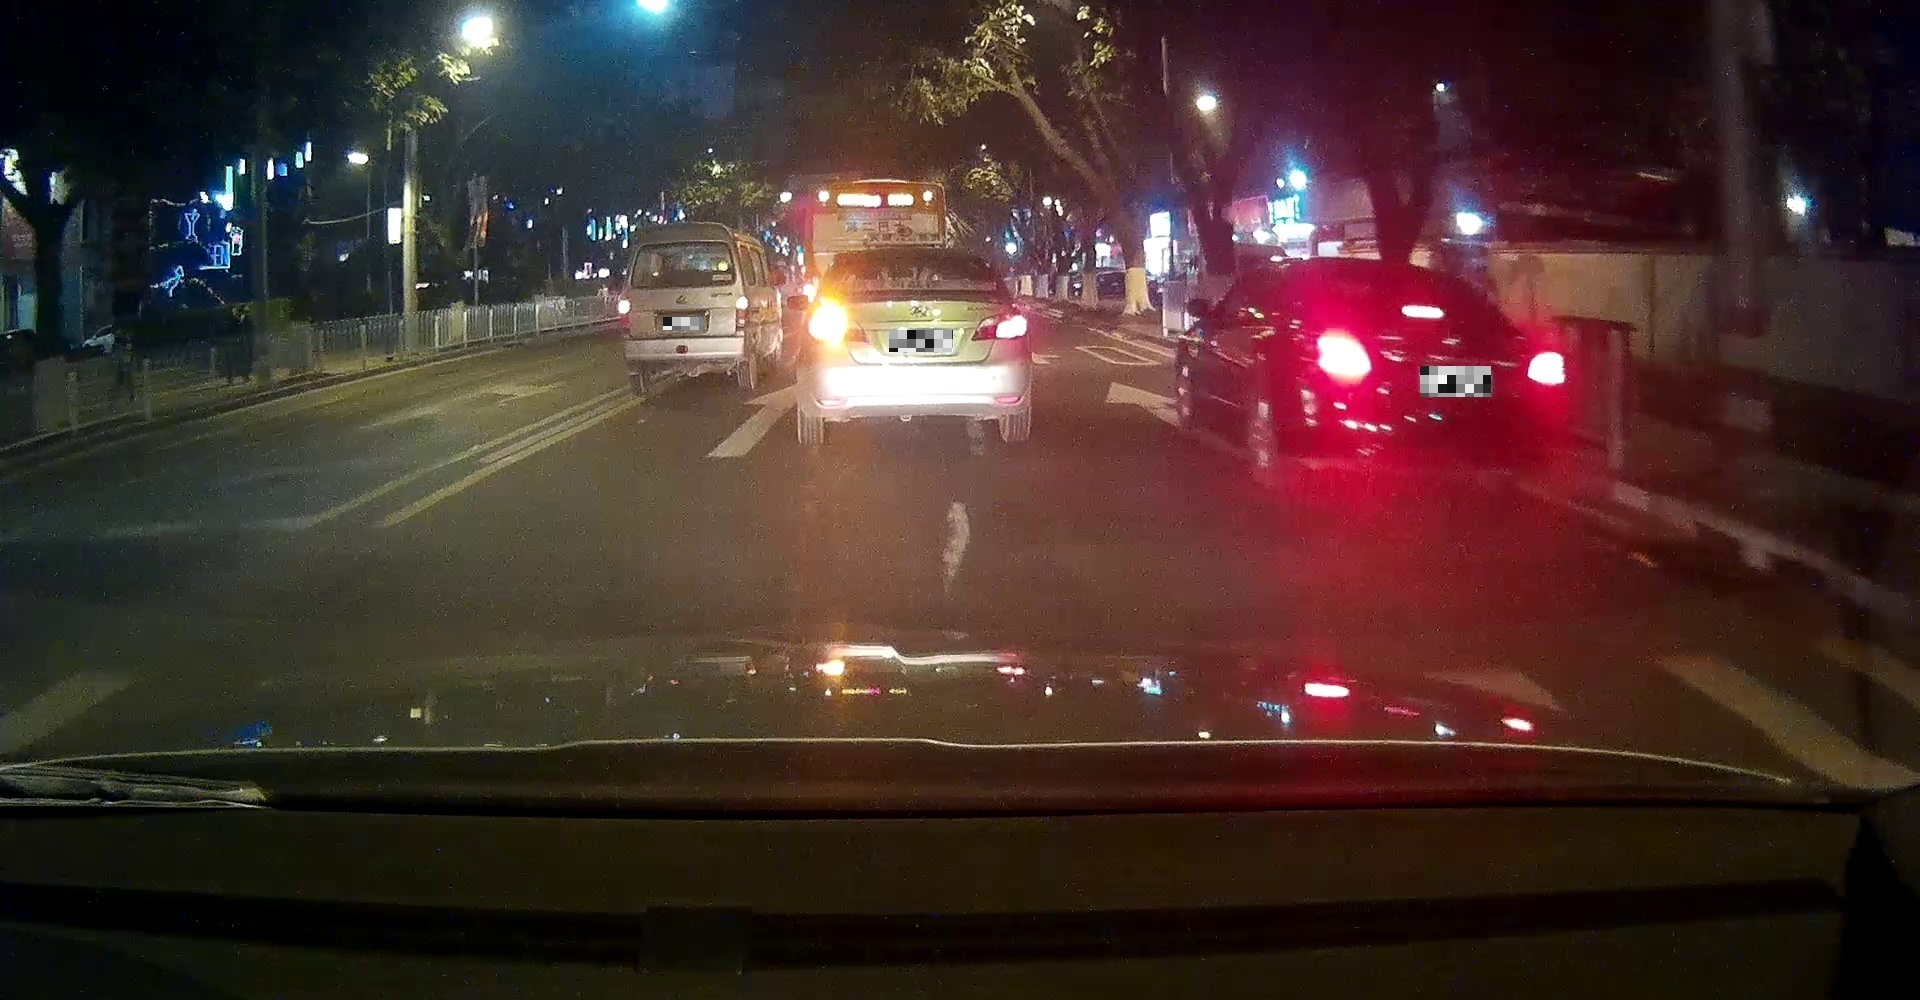L_light: (1316, 329, 1375, 379), (808, 308, 851, 339), (618, 299, 631, 329)
R_light: (971, 311, 1029, 341), (1525, 346, 1564, 385), (735, 294, 748, 327)
T_light: (1399, 305, 1444, 319), (903, 256, 930, 263), (669, 242, 690, 247)
day-brake: (1293, 255, 1564, 496)
night-left: (795, 245, 1032, 444)
night-no: (618, 221, 750, 393)
plate_1: (663, 317, 703, 330)
plate_2: (889, 330, 952, 352)
plate_3: (1420, 365, 1491, 397)
